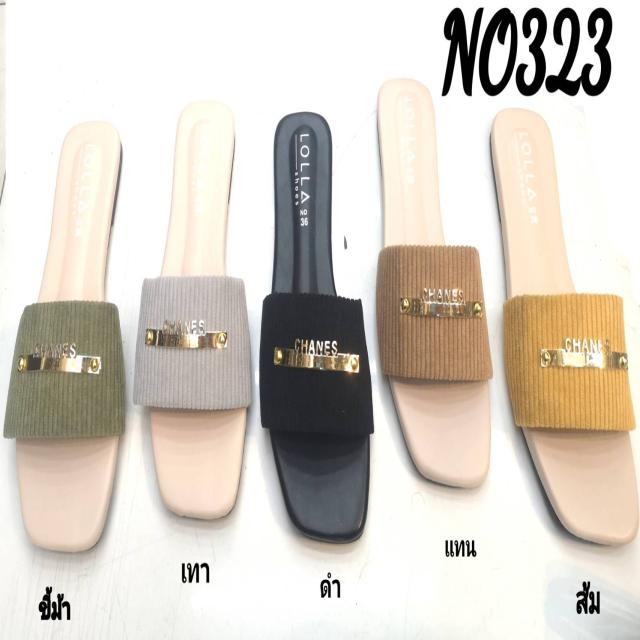black: (264, 107, 368, 545)
grey: (145, 100, 246, 531)
keema: (14, 115, 121, 546)
orange: (491, 108, 640, 537)
tan: (369, 78, 491, 488)
